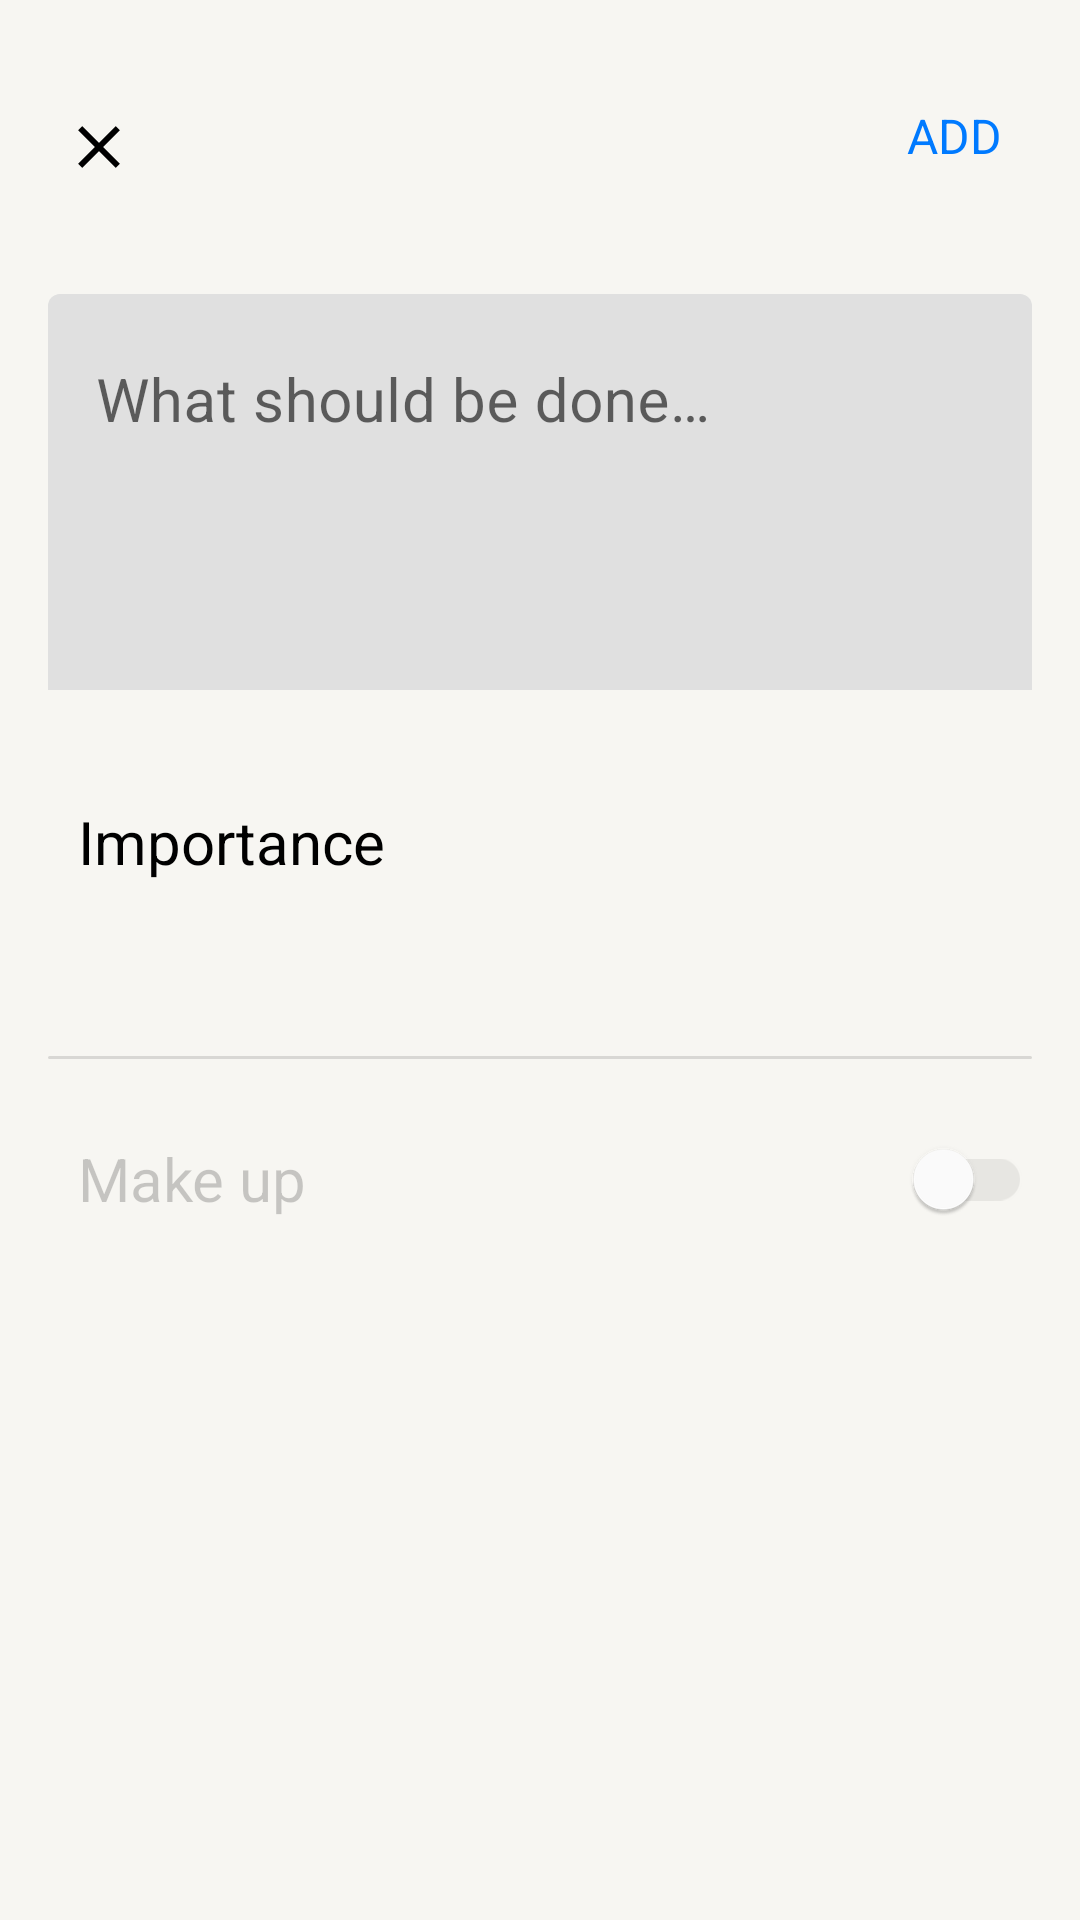

Point at icon controls on the screen. Image size 1080x1920, points as (x,y).
Cancel: (99,147)
